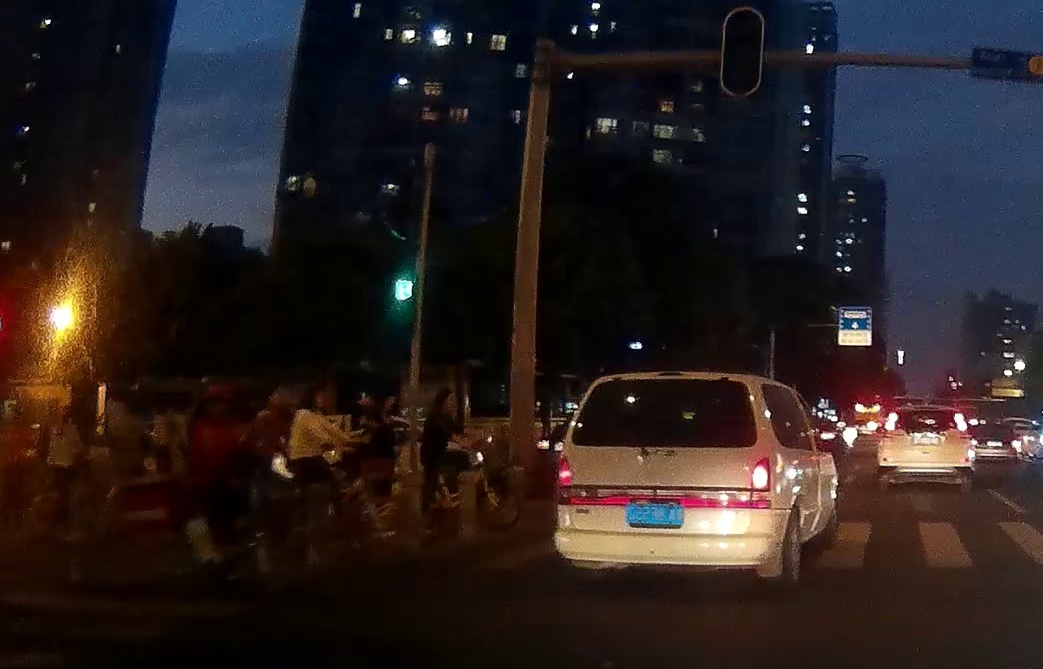L_light: (556, 456, 572, 504), (883, 411, 899, 431)
R_light: (750, 456, 771, 509), (953, 411, 969, 432)
T_light: (657, 371, 683, 378), (913, 406, 939, 411)
night-no: (875, 404, 976, 494)
night-right: (553, 369, 781, 587)
